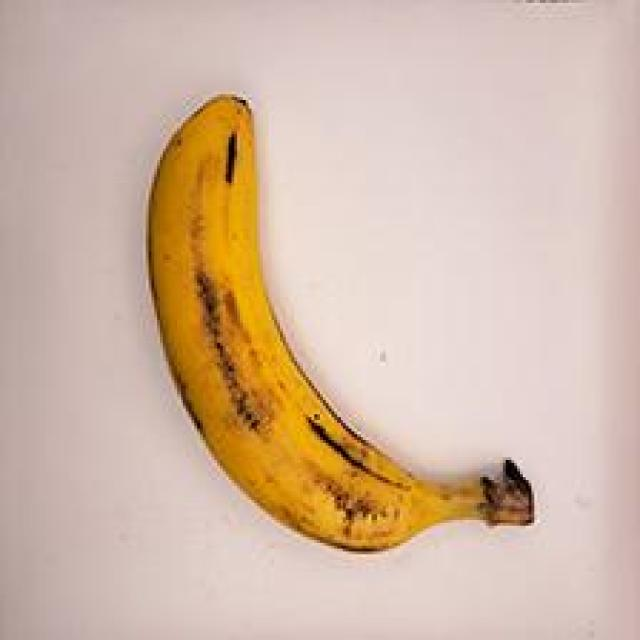Overripe: (101, 77, 571, 602)
